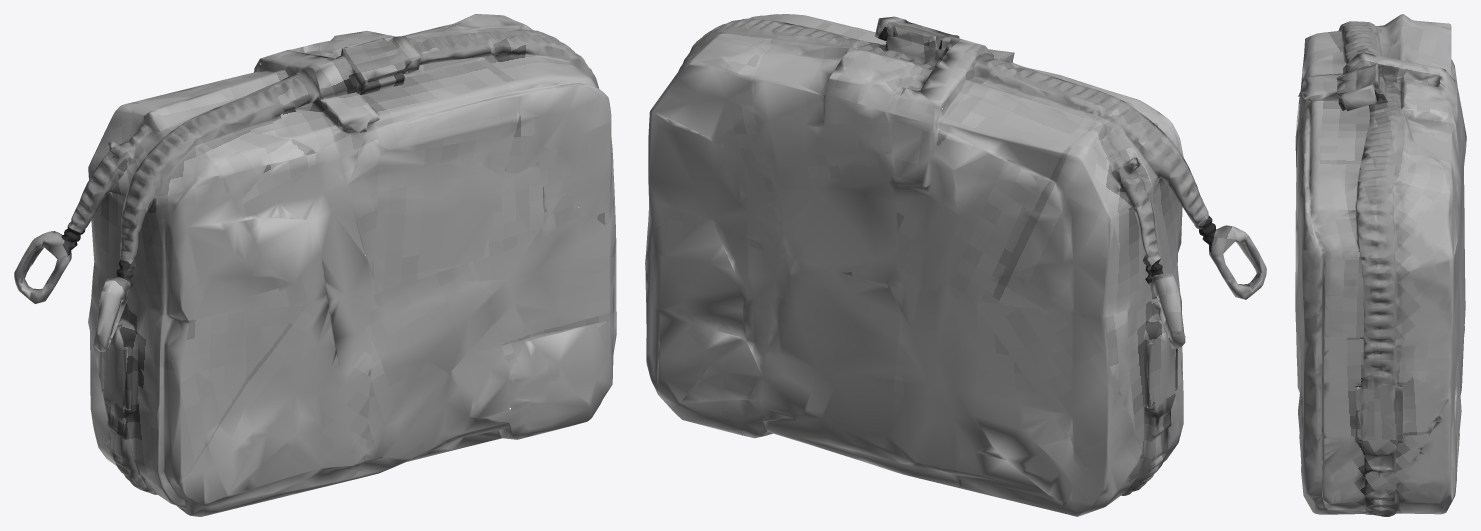
The model's file is m_pencil_case.glb.
3 renders of one model, left to right at view 1: azimuth 30°, elevation 25°; view 2: azimuth 150°, elevation 25°; view 3: azimuth 270°, elevation 25°, orthographic. The views are drawn at different scales.
Visible parts, largest first — view 1: tripo_node_17b1dcec-98ff-4526-8faf-36c9f5710717; view 2: tripo_node_17b1dcec-98ff-4526-8faf-36c9f5710717; view 3: tripo_node_17b1dcec-98ff-4526-8faf-36c9f5710717.
Boxes of the visible parts, <box> form: tripo_node_17b1dcec-98ff-4526-8faf-36c9f5710717: <box>14,14,616,516</box>; tripo_node_17b1dcec-98ff-4526-8faf-36c9f5710717: <box>645,14,1266,516</box>; tripo_node_17b1dcec-98ff-4526-8faf-36c9f5710717: <box>1295,14,1466,516</box>.
Size of the model in its own units: 1 by 0.7141 by 0.306.
1 material, 1 textured.
